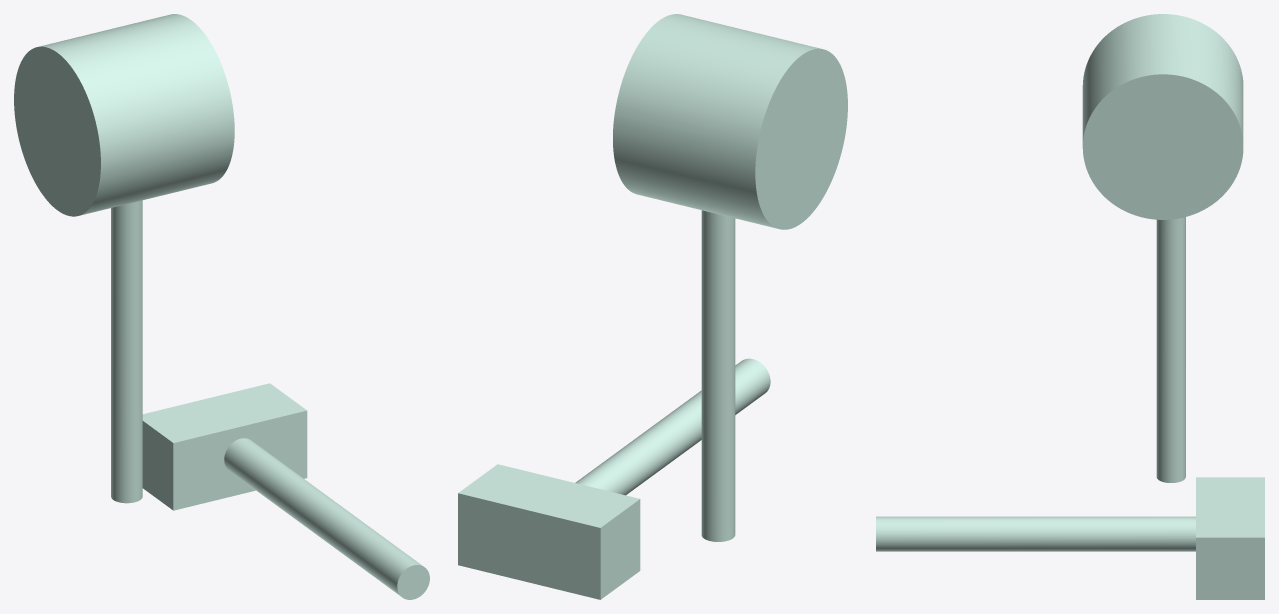
3 renders of one model, left to right at view 1: azimuth 30°, elevation 25°; view 2: azimuth 150°, elevation 25°; view 3: azimuth 270°, elevation 25°, orthographic. The views are drawn at different scales.
Parts seen in each view (by area): view 1: Renderer Node; view 2: Renderer Node; view 3: Renderer Node.
Part boxes in pixels (x1,y1,x2,y2): Renderer Node: (14,14,429,599); Renderer Node: (458,14,847,599); Renderer Node: (876,14,1264,599).
Bounding box in the file's own units: 0.4531 × 0.815 × 0.6172.
